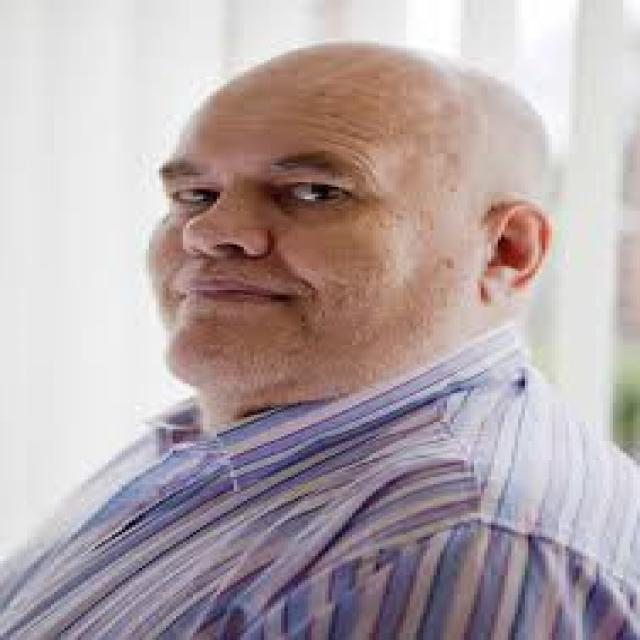normal_face: (143, 35, 509, 394)
